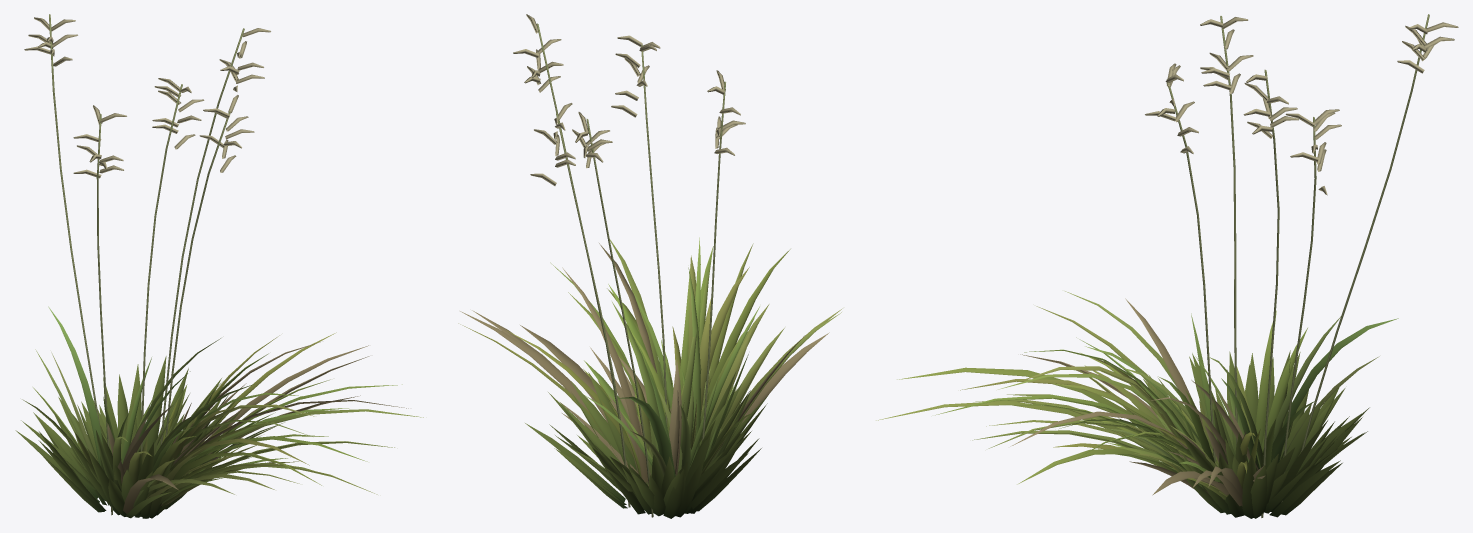
File: eco_grass_meadow_LOD0.glb
3 renders of one model, left to right at view 1: azimuth 30°, elevation 25°; view 2: azimuth 150°, elevation 25°; view 3: azimuth 270°, elevation 25°, orthographic. The views are drawn at different scales.
Visible parts, largest first — view 1: eco_grass_meadow_LOD0; view 2: eco_grass_meadow_LOD0; view 3: eco_grass_meadow_LOD0.
Boxes of the visible parts, x1,y1,x2,y2 form: eco_grass_meadow_LOD0: (15, 14, 423, 518); eco_grass_meadow_LOD0: (458, 14, 842, 518); eco_grass_meadow_LOD0: (876, 14, 1458, 518).
Size of the model in its own units: 0.5466 by 0.7214 by 0.7693.
